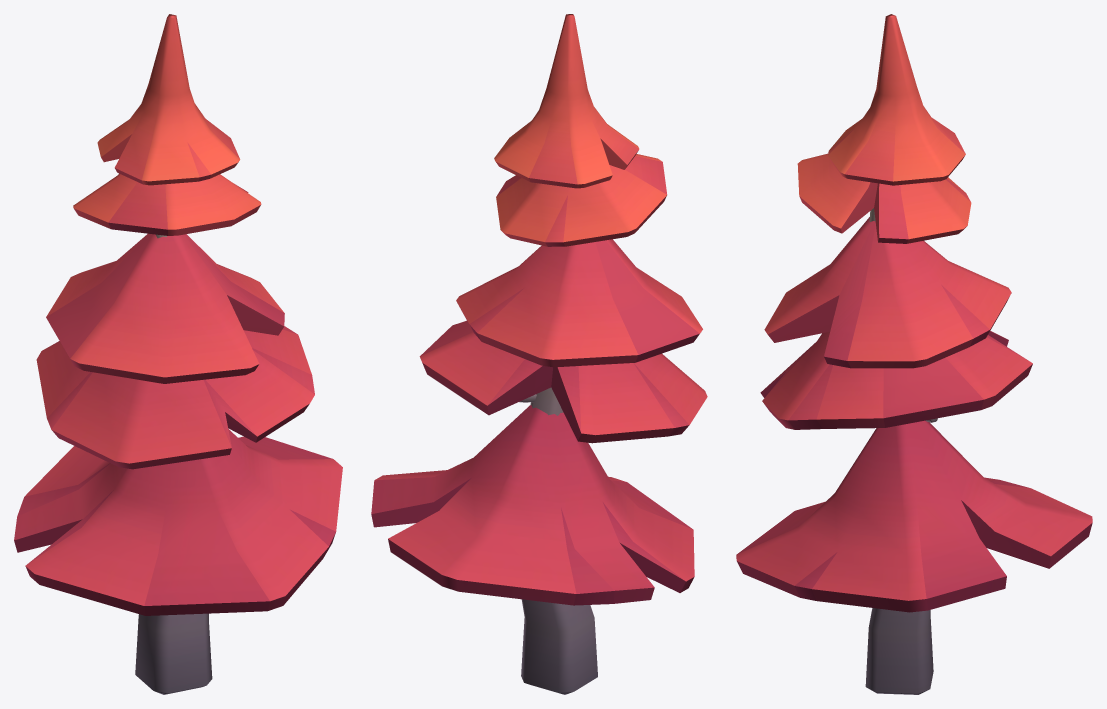
File: tree-four.glb
3 renders of one model, left to right at view 1: azimuth 30°, elevation 25°; view 2: azimuth 150°, elevation 25°; view 3: azimuth 270°, elevation 25°, orthographic.
Visible parts, largest first — view 1: tree_pine_SC_04_pine_tree_red_mat_0; view 2: tree_pine_SC_04_pine_tree_red_mat_0; view 3: tree_pine_SC_04_pine_tree_red_mat_0.
Boxes of the visible parts, x1=… form: tree_pine_SC_04_pine_tree_red_mat_0: x1=14, y1=14, x2=342, y2=694; tree_pine_SC_04_pine_tree_red_mat_0: x1=371, y1=14, x2=707, y2=694; tree_pine_SC_04_pine_tree_red_mat_0: x1=736, y1=14, x2=1092, y2=694.
Bounding box in the file's own units: 528 × 1086 × 526.
1 material, 1 textured.
